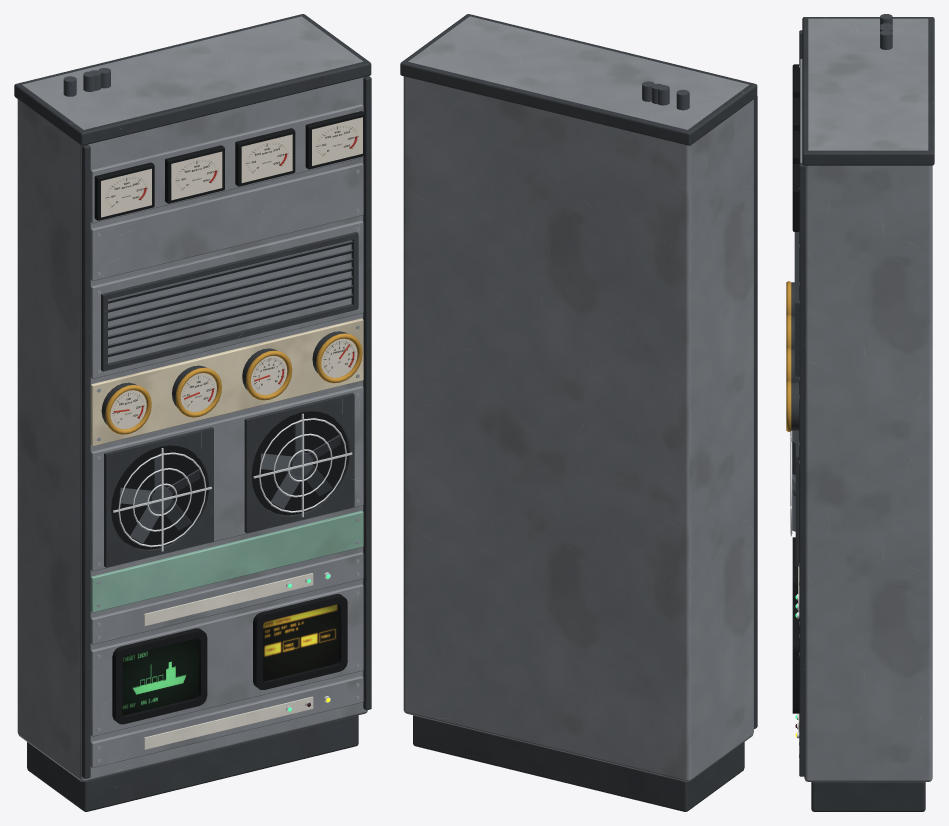
Rendered from Rack_90_5.glb.
3 views of the same model, side by side, from view 1: azimuth 30°, elevation 25°; view 2: azimuth 150°, elevation 25°; view 3: azimuth 270°, elevation 25° (orthographic). The views are drawn at different scales.
Visible parts, largest first — view 1: Rack_90_5_Body; view 2: Rack_90_5_Body; view 3: Rack_90_5_Body.
Part boxes in pixels (x1,y1,x2,y2): Rack_90_5_Body: (14,14,371,811); Rack_90_5_Body: (400,14,757,811); Rack_90_5_Body: (786,14,934,811).
Size of the model in its own units: 0.91 by 2.1 by 0.4148.
Materials: 18 (10 with a texture image).
